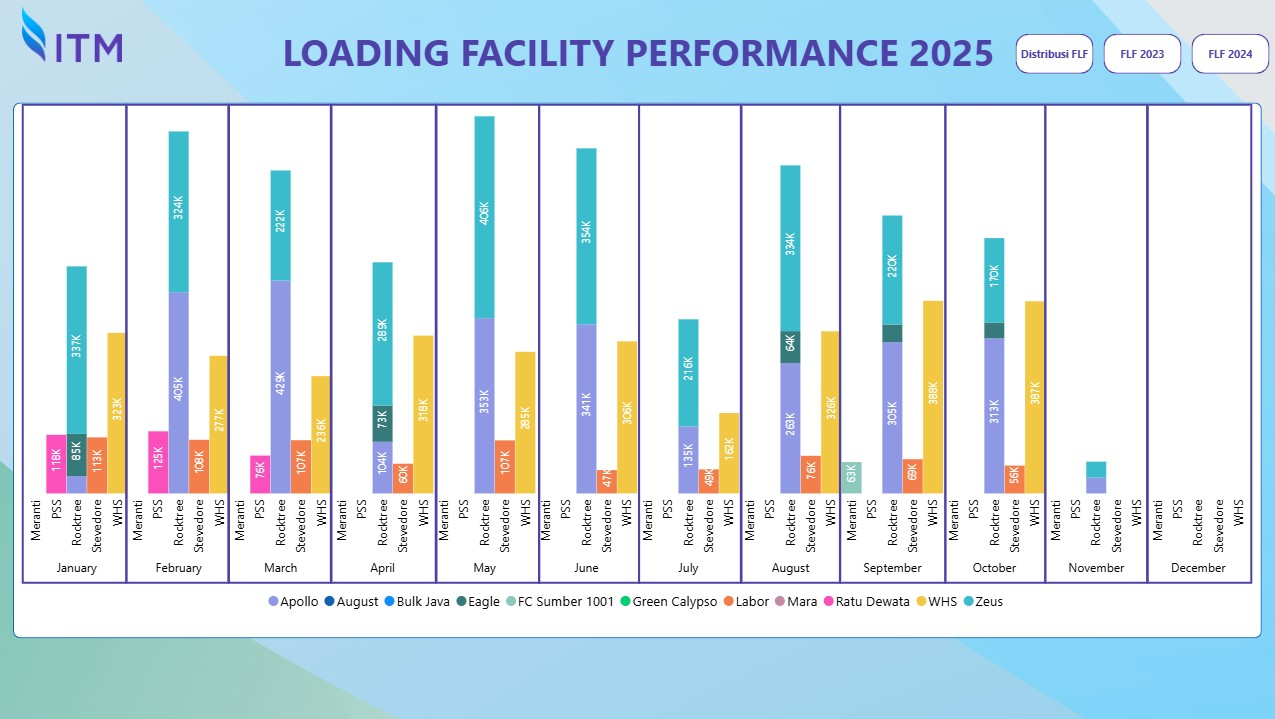

What the dashboard file says about the page in this screenshot:
{"tool":"powerbi","page":{"name":"FLF 2025","canvas":[1280,720],"ordinal":3},"visuals":[{"type":"shape","box":[15.5,102.4,1248.8,535.7],"z":0},{"type":"shape","box":[23.7,103.8,105.5,480],"z":1000,"group":"g1"},{"type":"columnChart","fields":{"Category":["Fact FLF.Month Name","Dim Mapping.Group"],"Series":["Fact FLF.FLF"],"Y":["Sum(Fact FLF.Amount)"]},"box":[15.3,102.1,1249.4,517.4],"z":1000},{"type":"textbox","box":[272.5,21.2,736.2,63.8],"z":2000},{"type":"shape","box":[127.5,103.8,103.8,480],"z":3000,"group":"g1"},{"type":"group","id":"g1","title":"Group 1","box":[23.7,103.8,1230.6,480],"z":3000},{"type":"shape","box":[229.7,103.8,103.8,480],"z":4000,"group":"g1"},{"type":"image","box":[0,1.4,148.2,65.9],"z":4000},{"type":"shape","box":[332.5,103.8,106.2,480],"z":5000,"group":"g1"},{"type":"pageNavigator","box":[1017.5,33.8,256.2,40],"z":5000},{"type":"shape","box":[437.5,103.8,105,480],"z":6000,"group":"g1"},{"type":"shape","box":[539.4,103.8,102.1,480],"z":7000,"group":"g1"},{"type":"shape","box":[639.9,103.8,103.8,480],"z":8000,"group":"g1"},{"type":"shape","box":[742,103.8,100.4,480],"z":9000,"group":"g1"},{"type":"shape","box":[840.7,103.8,107.2,480],"z":10000,"group":"g1"},{"type":"shape","box":[946.3,103.8,102.1,480],"z":11000,"group":"g1"},{"type":"shape","box":[1046.7,103.8,103.8,480],"z":12000,"group":"g1"},{"type":"shape","box":[1148.8,103.8,105.5,480],"z":13000,"group":"g1"}]}

Visuals, with their boxes in screenshot pixels (x1, y1, x2, y2), scaled from the page's 1280x720 canvas onto the 1275x719 screenshot:
shape: select_region(15, 102, 1259, 637)
shape: select_region(24, 104, 129, 583)
columnChart - Fact FLF.Month Name x Dim Mapping.Group: select_region(15, 102, 1260, 619)
textbox: select_region(271, 21, 1005, 85)
shape: select_region(127, 104, 230, 583)
"Group 1" group: select_region(24, 104, 1249, 583)
shape: select_region(229, 104, 332, 583)
image: select_region(0, 1, 148, 67)
shape: select_region(331, 104, 437, 583)
pageNavigator: select_region(1014, 34, 1269, 74)
shape: select_region(436, 104, 540, 583)
shape: select_region(537, 104, 639, 583)
shape: select_region(637, 104, 741, 583)
shape: select_region(739, 104, 839, 583)
shape: select_region(837, 104, 944, 583)
shape: select_region(943, 104, 1044, 583)
shape: select_region(1043, 104, 1146, 583)
shape: select_region(1144, 104, 1249, 583)
